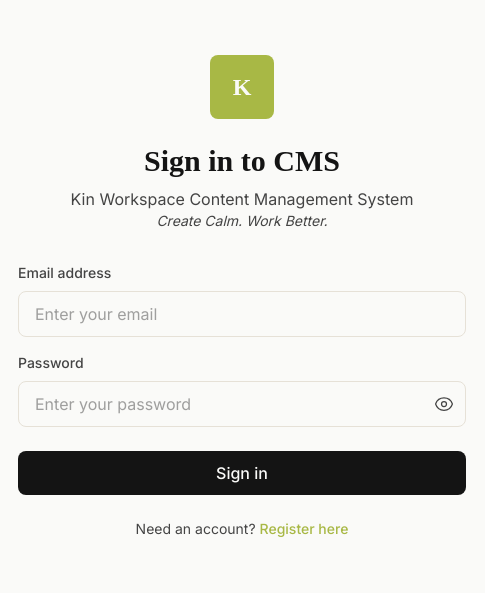
Test: LoginForm › should display an error message on failed login
Step 1. Type "wrong@example.com" into the field labelled "Email address" → [242, 314], box x1=18 y1=291 x2=466 y2=337
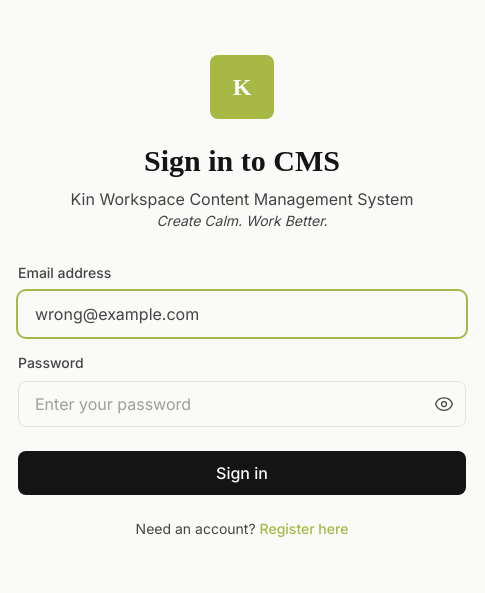
Step 2. Type "wrongpassword" into the password field labelled "Password" → [242, 404], box x1=18 y1=381 x2=466 y2=427
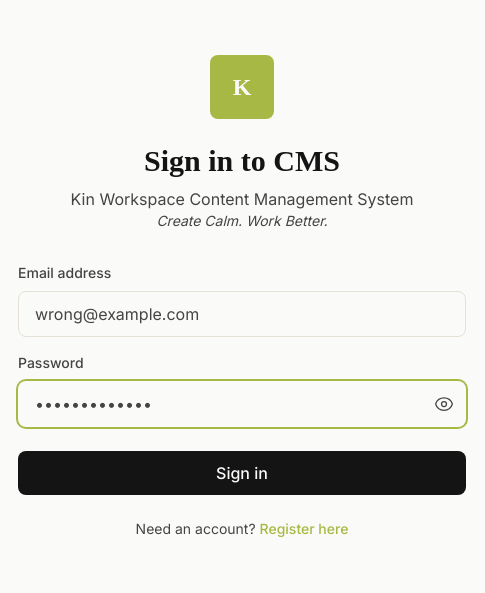
Step 3. Click the button "Sign in" → [242, 473], box x1=18 y1=451 x2=466 y2=495
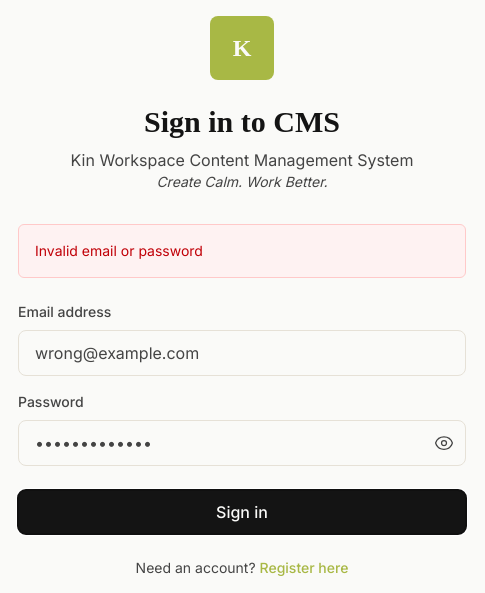
Check: the text "Invalid email or password" is shown, box x1=35 y1=242 x2=203 y2=259
